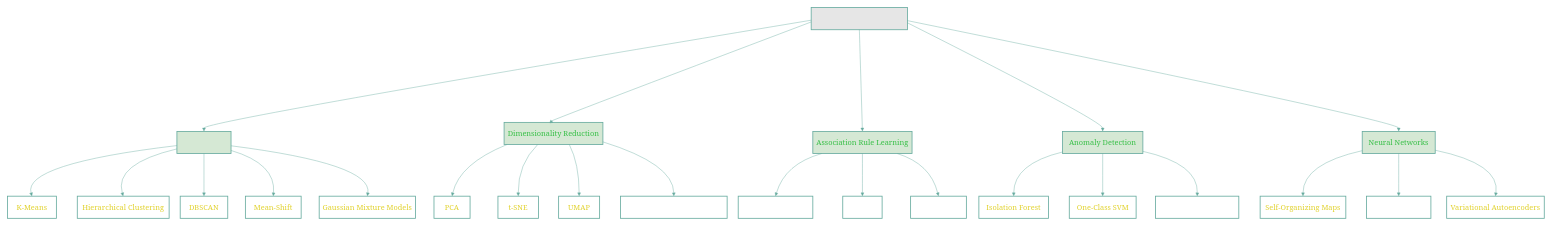
Image size: 1551x226. Some labels were removed from this diagram. Each missing label, with the centre of its shape:
Apriori Algorithm: point (775, 207)
Autoencoders: point (1398, 207)
Clustering: point (203, 142)
Eclat: point (862, 207)
FP-Growth: point (938, 207)
Linear Discriminant Analysis: point (673, 207)
Local Outlier Factor: point (1197, 207)
Unsupervised Algorithms: point (859, 18)
